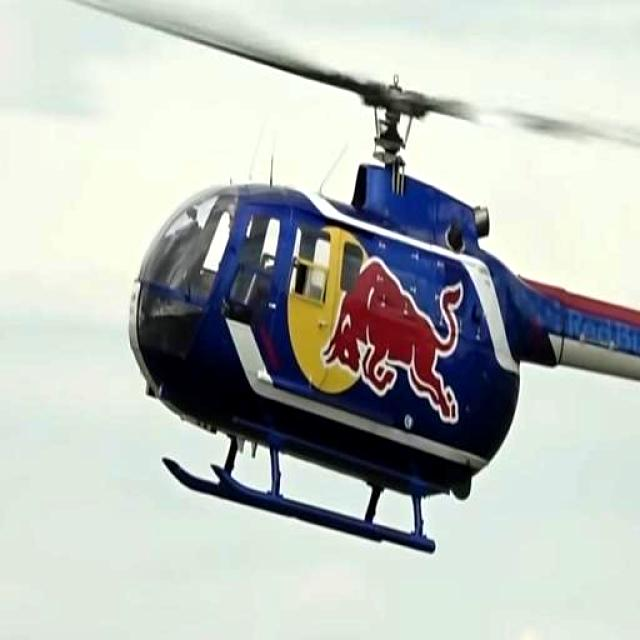drone: (104, 42, 640, 566)
